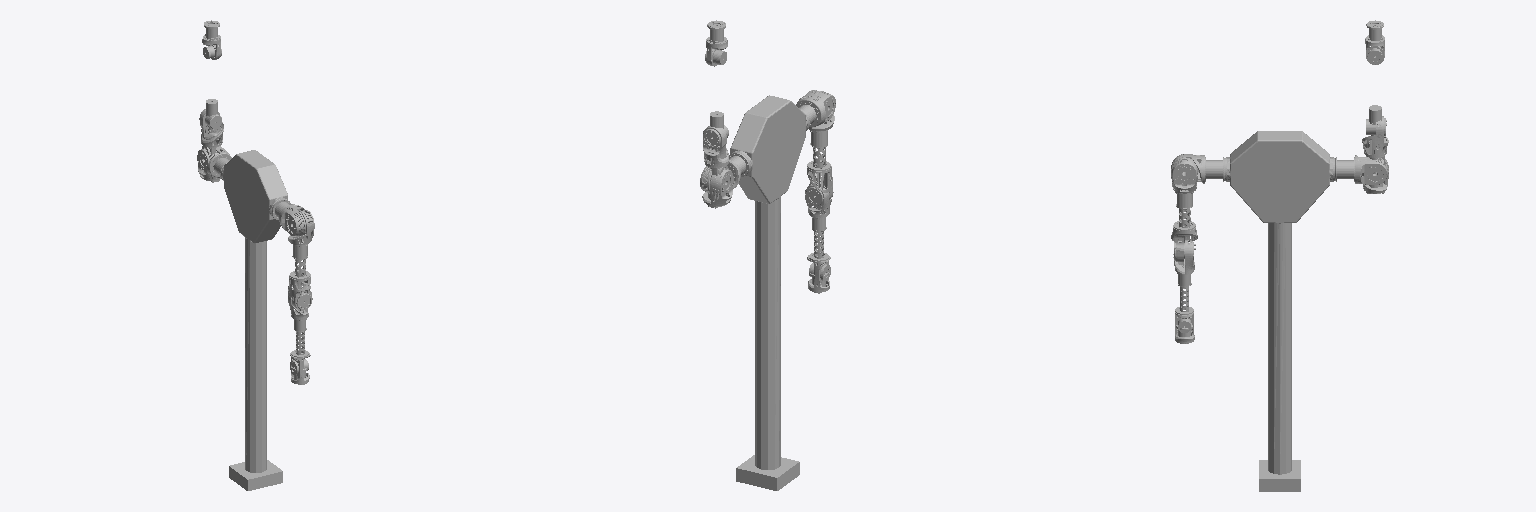
The robot description file, URDF, robot "HR-UP-7DOF-3KG-R-B01382-URDF-1029_CSV_LEFT_CANDIDATE_NOT_FOR_ROB":
<?xml version="1.0" encoding="utf-8"?>
<!--
  HR-UP-7DOF-3KG-R-B01382 修复版 (2026-10-30)
  双臂限位于2026-11-06按get_config内缩0.02rad与现场bridge对齐（左臂当日17:24先行，右臂18:1x补齐）。
  本包结构仿 SolidWorks 原始导出包 HR-UP-7DOF-3KG-R-B01382-URDF-1029。
  ROS2 包名: hr_up_7dof_fixed (原包名含 '-' 不符合 ROS 包名规范, 目录名保留原名风格)
  基于 SW 原始导出修正:
  1. mesh 路径改为 package://hr_up_7dof_fixed/meshes/ (自包含)
  2. 14 个关节限位从 0/0 修复为 ±2.967 rad (参考同类 7-DOF 臂)
     2b. 左臂 Joint1L~Joint7L 改用控制器 get_config 实测软限位并内缩 0.02rad
         (2026-11-06, 与 exton_bridge.py 的 LIVE_LIMITS_RAD 同值)；
         旧值 ±2.967 比真机宽, 会让 IK 目标越过 bridge 裁剪线而与真机失配。
         2c. 右臂 Joint1~Joint7 同日改用同表（控制器 get_config 18:10 原文：
             upper=[2.79,0.26,2.79,2.26,2.79,1.57,2.79]×2臂, lower=[-2.79,-2.3562,...]×2臂,
             双臂对称; 内缩 0.02rad 后即 LIVE_LIMITS_RAD），右臂不再特例。
  3. 新增 base_link 根节点 + 固定安装变换 rpy=(-pi/2,-pi/2,0), 抬高 1.244m:
     整体由装配倒伏姿态改为竖直站立 (背板底端落在 z=0 地面), 零位双臂自然下垂
  4. 左臂 Joint1L~Joint7L origin 按右臂严格镜像重写 (修复 SW 装配 frame 混乱;
     右臂 Joint1~7 与原文件逐字节一致, 运动学未动)
  5. 左臂 Link1L~6L visual/collision origin 加姿态补偿:
     Link1L/3L/4L 绕 z 翻 180°, Link2L/5L/6L 绕 x 翻 180°, Link7L 不补偿
  注意:
  - 左臂运动学定义已按镜像重写 (有意修正), 与厂商原始 URDF 左臂零位不同, 接实机需重新核对
  - 同目录下 csv 为原始 SW 导出数据表 (左臂 Joint Origin 列对应原始版, 不反映本修复)
  - launch/display.launch.py 为 ROS2 (Humble) 格式, 对应原包的 ROS1 display.launch
  启动: ros2 launch hr_up_7dof_fixed display.launch.py
-->

<!-- This URDF was automatically created by SolidWorks to URDF Exporter! Originally created by Stephen Brawner (brawner@gmail.com) 
     Commit Version: 1.6.0-4-g7f85cfe  Build Version: 1.6.7995.38578
     For more information, please see http://wiki.ros.org/sw_urdf_exporter -->
<robot
  name="HR-UP-7DOF-3KG-R-B01382-URDF-1029_CSV_LEFT_CANDIDATE_NOT_FOR_ROBOT">
  <!-- DIAGNOSTIC ONLY - CSV-derived left-arm candidate; NEVER deploy to a robot. -->
  <link
    name="base">
    <inertial>
      <origin
        xyz="-0.376387537826631 -2.62081733964732E-07 -5.55111512312578E-17"
        rpy="0 0 0" />
      <mass
        value="15.5223953670435" />
      <inertia
        ixx="0.0827074536468223"
        ixy="-1.34986564896919E-07"
        ixz="1.0704489838012E-08"
        iyy="3.14007278551179"
        iyz="1.60922064995619E-08"
        izz="3.0789407204689" />
    </inertial>
    <visual>
      <origin
        xyz="0 0 0"
        rpy="0 0 0" />
      <geometry>
        <mesh
          filename="package://hr_up_7dof_fixed/meshes/base.STL" />
      </geometry>
      <material
        name="">
        <color
          rgba="0.752941176470588 0.752941176470588 0.752941176470588 1" />
      </material>
    </visual>
    <collision>
      <origin
        xyz="0 0 0"
        rpy="0 0 0" />
      <geometry>
        <mesh
          filename="package://hr_up_7dof_fixed/meshes/base.STL" />
      </geometry>
    </collision>
  </link>
  <link
    name="Link1">
    <inertial>
      <origin
        xyz="-0.000591561365081261 0.00320427695188968 -0.0597144083302867"
        rpy="0 0 0" />
      <mass
        value="0.3678301641414" />
      <inertia
        ixx="0.000425320901492475"
        ixy="-7.43831250588063E-06"
        ixz="1.73516526916848E-06"
        iyy="0.000441015892976663"
        iyz="3.36458694906235E-05"
        izz="0.000368632561441053" />
    </inertial>
    <visual>
      <origin
        xyz="0 0 0"
        rpy="0 0 0" />
      <geometry>
        <mesh
          filename="package://hr_up_7dof_fixed/meshes/Link1.STL" />
      </geometry>
      <material
        name="">
        <color
          rgba="0.752941176470588 0.752941176470588 0.752941176470588 1" />
      </material>
    </visual>
    <collision>
      <origin
        xyz="0 0 0"
        rpy="0 0 0" />
      <geometry>
        <mesh
          filename="package://hr_up_7dof_fixed/meshes/Link1.STL" />
      </geometry>
    </collision>
  </link>
  <joint
    name="Joint1"
    type="revolute">
    <origin
      xyz="0 0 -0.194"
      rpy="0 0 -3.1416" />
    <parent
      link="base" />
    <child
      link="Link1" />
    <axis
      xyz="0 0 1" />
    <limit
      lower="-2.77"
      upper="2.77"
      effort="100"
      velocity="6.28" />
  </joint>
  <link
    name="Link2">
    <inertial>
      <origin
        xyz="0.0106774916647973 0.000181873071192117 -0.00314585862786001"
        rpy="0 0 0" />
      <mass
        value="0.359887026812365" />
      <inertia
        ixx="0.000364078688238279"
        ixy="-4.8947616519457E-06"
        ixz="-3.5627625592209E-05"
        iyy="0.000407149771176912"
        iyz="-5.2802785399217E-06"
        izz="0.000388015415520843" />
    </inertial>
    <visual>
      <origin
        xyz="0 0 0"
        rpy="0 0 0" />
      <geometry>
        <mesh
          filename="package://hr_up_7dof_fixed/meshes/Link2.STL" />
      </geometry>
      <material
        name="">
        <color
          rgba="0.752941176470588 0.752941176470588 0.752941176470588 1" />
      </material>
    </visual>
    <collision>
      <origin
        xyz="0 0 0"
        rpy="0 0 0" />
      <geometry>
        <mesh
          filename="package://hr_up_7dof_fixed/meshes/Link2.STL" />
      </geometry>
    </collision>
  </link>
  <joint
    name="Joint2"
    type="revolute">
    <origin
      xyz="0 0 -0.15"
      rpy="-1.5708 0 0" />
    <parent
      link="Link1" />
    <child
      link="Link2" />
    <axis
      xyz="0 0 1" />
    <limit
      lower="-2.3362"
      upper="0.24"
      effort="100"
      velocity="6.28" />
  </joint>
  <link
    name="Link3">
    <inertial>
      <origin
        xyz="-0.000794196663793553 0.00537395944616941 0.134802058258116"
        rpy="0 0 0" />
      <mass
        value="0.475618970663951" />
      <inertia
        ixx="0.000799740442003772"
        ixy="-1.33756853028561E-05"
        ixz="1.24883996932872E-05"
        iyy="0.000828828157757174"
        iyz="-8.93031147752984E-05"
        izz="0.000437142259604194" />
    </inertial>
    <visual>
      <origin
        xyz="0 0 0"
        rpy="0 0 0" />
      <geometry>
        <mesh
          filename="package://hr_up_7dof_fixed/meshes/Link3.STL" />
      </geometry>
      <material
        name="">
        <color
          rgba="0.752941176470588 0.752941176470588 0.752941176470588 1" />
      </material>
    </visual>
    <collision>
      <origin
        xyz="0 0 0"
        rpy="0 0 0" />
      <geometry>
        <mesh
          filename="package://hr_up_7dof_fixed/meshes/Link3.STL" />
      </geometry>
    </collision>
  </link>
  <joint
    name="Joint3"
    type="revolute">
    <origin
      xyz="0.078 0 0"
      rpy="0 1.5708 0" />
    <parent
      link="Link2" />
    <child
      link="Link3" />
    <axis
      xyz="0 0 1" />
    <limit
      lower="-2.77"
      upper="2.77"
      effort="100"
      velocity="6.28" />
  </joint>
  <link
    name="Link4">
    <inertial>
      <origin
        xyz="0.00975027962340019 0.000372530736054276 0.00176807760725375"
        rpy="0 0 0" />
      <mass
        value="0.242852964563248" />
      <inertia
        ixx="0.000174061578236843"
        ixy="-1.25255061120561E-06"
        ixz="1.89484096662568E-05"
        iyy="0.000202282981517127"
        iyz="4.0038167412235E-06"
        izz="0.000195723542295689" />
    </inertial>
    <visual>
      <origin
        xyz="0 0 0"
        rpy="0 0 0" />
      <geometry>
        <mesh
          filename="package://hr_up_7dof_fixed/meshes/Link4.STL" />
      </geometry>
      <material
        name="">
        <color
          rgba="0.752941176470588 0.752941176470588 0.752941176470588 1" />
      </material>
    </visual>
    <collision>
      <origin
        xyz="0 0 0"
        rpy="0 0 0" />
      <geometry>
        <mesh
          filename="package://hr_up_7dof_fixed/meshes/Link4.STL" />
      </geometry>
    </collision>
  </link>
  <joint
    name="Joint4"
    type="revolute">
    <origin
      xyz="0 0 0.247"
      rpy="1.5708 -1.5708 0" />
    <parent
      link="Link3" />
    <child
      link="Link4" />
    <axis
      xyz="0 0 1" />
    <limit
      lower="-0.67"
      upper="2.24"
      effort="100"
      velocity="6.28" />
  </joint>
  <link
    name="Link5">
    <inertial>
      <origin
        xyz="-0.00173646564193267 -0.000155248896045063 0.085325215516217"
        rpy="0 0 0" />
      <mass
        value="0.164930022113935" />
      <inertia
        ixx="0.000131461645150165"
        ixy="-3.15409086112128E-07"
        ixz="1.07948742726345E-05"
        iyy="0.00012690816108135"
        iyz="-3.22478075222191E-07"
        izz="7.70801421996649E-05" />
    </inertial>
    <visual>
      <origin
        xyz="0 0 0"
        rpy="0 0 0" />
      <geometry>
        <mesh
          filename="package://hr_up_7dof_fixed/meshes/Link5.STL" />
      </geometry>
      <material
        name="">
        <color
          rgba="0.752941176470588 0.752941176470588 0.752941176470588 1" />
      </material>
    </visual>
    <collision>
      <origin
        xyz="0 0 0"
        rpy="0 0 0" />
      <geometry>
        <mesh
          filename="package://hr_up_7dof_fixed/meshes/Link5.STL" />
      </geometry>
    </collision>
  </link>
  <joint
    name="Joint5"
    type="revolute">
    <origin
      xyz="0.0764 0 0"
      rpy="-1.5708 0 -1.5708" />
    <parent
      link="Link4" />
    <child
      link="Link5" />
    <axis
      xyz="0 0 1" />
    <limit
      lower="-2.77"
      upper="2.77"
      effort="100"
      velocity="6.28" />
  </joint>
  <link
    name="Link6">
    <inertial>
      <origin
        xyz="0.0104892045435304 -6.01581548683741E-07 -0.00249827064212885"
        rpy="0 0 0" />
      <mass
        value="0.144939847863476" />
      <inertia
        ixx="8.15130084253264E-05"
        ixy="8.96452380335651E-11"
        ixz="-9.52662365220613E-06"
        iyy="9.18496914142817E-05"
        iyz="-7.8124380683384E-09"
        izz="9.15415032724651E-05" />
    </inertial>
    <visual>
      <origin
        xyz="0 0 0"
        rpy="0 0 0" />
      <geometry>
        <mesh
          filename="package://hr_up_7dof_fixed/meshes/Link6.STL" />
      </geometry>
      <material
        name="">
        <color
          rgba="0.752941176470588 0.752941176470588 0.752941176470588 1" />
      </material>
    </visual>
    <collision>
      <origin
        xyz="0 0 0"
        rpy="0 0 0" />
      <geometry>
        <mesh
          filename="package://hr_up_7dof_fixed/meshes/Link6.STL" />
      </geometry>
    </collision>
  </link>
  <joint
    name="Joint6"
    type="revolute">
    <origin
      xyz="0 0 0.2136"
      rpy="3.1416 -1.5708 0" />
    <parent
      link="Link5" />
    <child
      link="Link6" />
    <axis
      xyz="0 0 1" />
    <limit
      lower="-1.55"
      upper="1.55"
      effort="100"
      velocity="6.28" />
  </joint>
  <link
    name="Link7">
    <inertial>
      <origin
        xyz="2.19232814873556E-05 -1.47941976487554E-14 -0.030661959391494"
        rpy="0 0 0" />
      <mass
        value="0.109001414834473" />
      <inertia
        ixx="4.14075002615855E-05"
        ixy="-6.38314363402727E-17"
        ixz="-1.50453859983565E-09"
        iyy="4.13169683262698E-05"
        iyz="1.05968065143206E-18"
        izz="3.74678725864852E-05" />
    </inertial>
    <visual>
      <origin
        xyz="0 0 0"
        rpy="0 0 0" />
      <geometry>
        <mesh
          filename="package://hr_up_7dof_fixed/meshes/Link7.STL" />
      </geometry>
      <material
        name="">
        <color
          rgba="0.752941176470588 0.752941176470588 0.752941176470588 1" />
      </material>
    </visual>
    <collision>
      <origin
        xyz="0 0 0"
        rpy="0 0 0" />
      <geometry>
        <mesh
          filename="package://hr_up_7dof_fixed/meshes/Link7.STL" />
      </geometry>
    </collision>
  </link>
  <joint
    name="Joint7"
    type="revolute">
    <origin
      xyz="0.0614 0 0"
      rpy="3.1416 -1.5708 0" />
    <parent
      link="Link6" />
    <child
      link="Link7" />
    <axis
      xyz="0 0 1" />
    <limit
      lower="-2.77"
      upper="2.77"
      effort="100"
      velocity="6.28" />
  </joint>
  <link
    name="Link1L">
    <inertial>
      <origin
        xyz="0.000591068125007005 -0.00320614565370185 0.0597092491486269"
        rpy="0 0 0" />
      <mass
        value="0.367808392323499" />
      <inertia
        ixx="0.000425416190274079"
        ixy="-7.47295603123382E-06"
        ixz="1.76208480664631E-06"
        iyy="0.000440933384413344"
        iyz="3.36490973531412E-05"
        izz="0.000368620190381941" />
    </inertial>
    <visual>
      <origin
        xyz="0 0 0"
        rpy="0.000000 0.000000 3.141593" />
      <geometry>
        <mesh
          filename="package://hr_up_7dof_fixed/meshes/Link1L.STL" />
      </geometry>
      <material
        name="">
        <color
          rgba="0.752941176470588 0.752941176470588 0.752941176470588 1" />
      </material>
    </visual>
    <collision>
      <origin
        xyz="0 0 0"
        rpy="0.000000 0.000000 3.141593" />
      <geometry>
        <mesh
          filename="package://hr_up_7dof_fixed/meshes/Link1L.STL" />
      </geometry>
    </collision>
  </link>
  <joint
    name="Joint1L"
    type="revolute">
    <origin
      xyz="0 0 0.194"
      rpy="0 0 0" />
    <parent
      link="base" />
    <child
      link="Link1L" />
    <axis
      xyz="0 0 1" />
    <limit
      lower="-2.77"
      upper="2.77"
      effort="100"
      velocity="6.28" />
  </joint>
  <link
    name="Link2L">
    <inertial>
      <origin
        xyz="0.0106916763035278 -0.000173514284543597 -0.00314337977356001"
        rpy="0 0 0" />
      <mass
        value="0.360190520660374" />
      <inertia
        ixx="0.000364591449298305"
        ixy="4.94144689154542E-06"
        ixz="-3.56591377652058E-05"
        iyy="0.000407564307943435"
        iyz="5.73694745583767E-06"
        izz="0.000388210543299227" />
    </inertial>
    <visual>
      <origin
        xyz="0 0 0"
        rpy="3.141593 0.000000 0.000000" />
      <geometry>
        <mesh
          filename="package://hr_up_7dof_fixed/meshes/Link2L.STL" />
      </geometry>
      <material
        name="">
        <color
          rgba="0.752941176470588 0.752941176470588 0.752941176470588 1" />
      </material>
    </visual>
    <collision>
      <origin
        xyz="0 0 0"
        rpy="3.141593 0.000000 0.000000" />
      <geometry>
        <mesh
          filename="package://hr_up_7dof_fixed/meshes/Link2L.STL" />
      </geometry>
    </collision>
  </link>
  <joint
    name="Joint2L"
    type="revolute">
    <origin
      xyz="0 0 0.15"
      rpy="-1.5708 0 -3.1416" />
    <parent
      link="Link1L" />
    <child
      link="Link2L" />
    <axis
      xyz="0 0 1" />
    <limit
      lower="-2.3362"
      upper="0.24"
      effort="100"
      velocity="6.28" />
  </joint>
  <link
    name="Link3L">
    <inertial>
      <origin
        xyz="0.000291402112978737 -0.00196958841242456 -0.0728636028996557"
        rpy="0 0 0" />
      <mass
        value="0.463736306643499" />
      <inertia
        ixx="0.000462341211893298"
        ixy="-4.75913095840478E-06"
        ixz="4.43462921065407E-06"
        iyy="0.000472657085301201"
        iyz="-3.18762134085855E-05"
        izz="0.000282811922628424" />
    </inertial>
    <visual>
      <origin
        xyz="0 0 0"
        rpy="0.000000 0.000000 3.141593" />
      <geometry>
        <mesh
          filename="package://hr_up_7dof_fixed/meshes/Link3L.STL" />
      </geometry>
      <material
        name="">
        <color
          rgba="0.752941176470588 0.752941176470588 0.752941176470588 1" />
      </material>
    </visual>
    <collision>
      <origin
        xyz="0 0 0"
        rpy="0.000000 0.000000 3.141593" />
      <geometry>
        <mesh
          filename="package://hr_up_7dof_fixed/meshes/Link3L.STL" />
      </geometry>
    </collision>
  </link>
  <joint
    name="Joint3L"
    type="revolute">
    <origin
      xyz="0.078 0 0"
      rpy="3.1416 -1.5708 0" />
    <parent
      link="Link2L" />
    <child
      link="Link3L" />
    <axis
      xyz="0 0 1" />
    <limit
      lower="-2.77"
      upper="2.77"
      effort="100"
      velocity="6.28" />
  </joint>
  <link
    name="Link4L">
    <inertial>
      <origin
        xyz="-0.0119883718049398 -0.000368727861447744 -0.00170902169505127"
        rpy="0 0 0" />
      <mass
        value="0.251287299257852" />
      <inertia
        ixx="0.000180409145644291"
        ixy="-1.25565370114981E-06"
        ixz="1.89477793444068E-05"
        iyy="0.000205668219800651"
        iyz="4.0048243373935E-06"
        izz="0.000198784367983275" />
    </inertial>
    <visual>
      <origin
        xyz="0 0 0"
        rpy="0.000000 0.000000 3.141593" />
      <geometry>
        <mesh
          filename="package://hr_up_7dof_fixed/meshes/Link4L.STL" />
      </geometry>
      <material
        name="">
        <color
          rgba="0.752941176470588 0.752941176470588 0.752941176470588 1" />
      </material>
    </visual>
    <collision>
      <origin
        xyz="0 0 0"
        rpy="0.000000 0.000000 3.141593" />
      <geometry>
        <mesh
          filename="package://hr_up_7dof_fixed/meshes/Link4L.STL" />
      </geometry>
    </collision>
  </link>
  <joint
    name="Joint4L"
    type="revolute">
    <origin
      xyz="0 0 -0.247"
      rpy="1.5708 -1.5708 0" />
    <parent
      link="Link3L" />
    <child
      link="Link4L" />
    <axis
      xyz="0 0 1" />
    <limit
      lower="-0.67"
      upper="2.24"
      effort="100"
      velocity="6.28" />
  </joint>
  <link
    name="Link5L">
    <inertial>
      <origin
        xyz="-0.00100467282479264 -4.79644483286634E-06 0.085510953152942"
        rpy="0 0 0" />
      <mass
        value="0.181003333976795" />
      <inertia
        ixx="0.000163213034772374"
        ixy="3.85976771242943E-09"
        ixz="1.20600878753708E-05"
        iyy="0.000158585869850887"
        iyz="1.37490765624317E-08"
        izz="8.03502776037416E-05" />
    </inertial>
    <visual>
      <origin
        xyz="0 0 0"
        rpy="3.141593 0.000000 0.000000" />
      <geometry>
        <mesh
          filename="package://hr_up_7dof_fixed/meshes/Link5L.STL" />
      </geometry>
      <material
        name="">
        <color
          rgba="0.752941176470588 0.752941176470588 0.752941176470588 1" />
      </material>
    </visual>
    <collision>
      <origin
        xyz="0 0 0"
        rpy="3.141593 0.000000 0.000000" />
      <geometry>
        <mesh
          filename="package://hr_up_7dof_fixed/meshes/Link5L.STL" />
      </geometry>
    </collision>
  </link>
  <joint
    name="Joint5L"
    type="revolute">
    <origin
      xyz="-0.0764 0 0"
      rpy="-1.5708 0 1.5708" />
    <parent
      link="Link4L" />
    <child
      link="Link5L" />
    <axis
      xyz="0 0 1" />
    <limit
      lower="-2.77"
      upper="2.77"
      effort="100"
      velocity="6.28" />
  </joint>
  <link
    name="Link6L">
    <inertial>
      <origin
        xyz="0.0104891683938672 -1.97967034498703E-06 -0.00250386103688268"
        rpy="0 0 0" />
      <mass
        value="0.144937188619048" />
      <inertia
        ixx="8.14957394470242E-05"
        ixy="-2.61420415198823E-09"
        ixz="-9.5320714728717E-06"
        iyy="9.18324710875711E-05"
        iyz="-5.19124219824279E-09"
        izz="9.15405048786224E-05" />
    </inertial>
    <visual>
      <origin
        xyz="0 0 0"
        rpy="3.141593 0.000000 0.000000" />
      <geometry>
        <mesh
          filename="package://hr_up_7dof_fixed/meshes/Link6L.STL" />
      </geometry>
      <material
        name="">
        <color
          rgba="0.752941176470588 0.752941176470588 0.752941176470588 1" />
      </material>
    </visual>
    <collision>
      <origin
        xyz="0 0 0"
        rpy="3.141593 0.000000 0.000000" />
      <geometry>
        <mesh
          filename="package://hr_up_7dof_fixed/meshes/Link6L.STL" />
      </geometry>
    </collision>
  </link>
  <joint
    name="Joint6L"
    type="revolute">
    <origin
      xyz="0 0 0.2136"
      rpy="3.1416 -1.5708 0" />
    <parent
      link="Link5L" />
    <child
      link="Link6L" />
    <axis
      xyz="0 0 1" />
    <limit
      lower="-1.55"
      upper="1.55"
      effort="100"
      velocity="6.28" />
  </joint>
  <link
    name="Link7L">
    <inertial>
      <origin
        xyz="-2.77477901810855E-18 2.19232814882009E-05 0.0306619593914942"
        rpy="0 0 0" />
      <mass
        value="0.109001414834473" />
      <inertia
        ixx="4.13169683262697E-05"
        ixy="2.06124633919894E-23"
        ixz="-2.18524227207288E-22"
        iyy="4.14075002615854E-05"
        iyz="1.50453859983735E-09"
        izz="3.7467872586485E-05" />
    </inertial>
    <visual>
      <origin
        xyz="0 0 0"
        rpy="0.000000 0.000000 0.000000" />
      <geometry>
        <mesh
          filename="package://hr_up_7dof_fixed/meshes/Link7L.STL" />
      </geometry>
      <material
        name="">
        <color
          rgba="0.752941176470588 0.752941176470588 0.752941176470588 1" />
      </material>
    </visual>
    <collision>
      <origin
        xyz="0 0 0"
        rpy="0.000000 0.000000 0.000000" />
      <geometry>
        <mesh
          filename="package://hr_up_7dof_fixed/meshes/Link7L.STL" />
      </geometry>
    </collision>
  </link>
  <joint
    name="Joint7L"
    type="revolute">
    <origin
      xyz="0.0614 0 0"
      rpy="0 1.5708 0" />
    <parent
      link="Link6L" />
    <child
      link="Link7L" />
    <axis
      xyz="0 0 1" />
    <limit
      lower="-2.77"
      upper="2.77"
      effort="100"
      velocity="6.28" />
  </joint>
  <link name="base_link" />
  <joint name="base_link_to_base" type="fixed">
    <origin
      xyz="0 0 1.244"
      rpy="-1.5708 -1.5708 0" />
    <parent
      link="base_link" />
    <child
      link="base" />
  </joint>
</robot>

--- What the picture shows (computed from the rendered views, not written in the file) ---
The picture shows the robot from 3 angles, left to right: view 1: azimuth 30°, elevation 25°; view 2: azimuth 150°, elevation 25°; view 3: azimuth 270°, elevation 25°; orthographic projection.
Robot: HR-UP-7DOF-3KG-R-B01382-URDF-1029_CSV_LEFT_CANDIDATE_NOT_FOR_ROB — 16 links, 15 joints (14 revolute, 1 fixed); root link base_link; default pose: every joint at zero.
Links seen in each view (by area): view 1: base, Link3, Link1, Link5, Link2; view 2: base, Link3, Link1, Link2L, Link5, Link4, Link3L, Link1L; view 3: base, Link3, Link1L, Link2, Link1, Link3L, Link5.
Boxes of the visible links, bbox=[...] form: base: bbox=[220, 150, 291, 490]; Link3: bbox=[288, 239, 312, 310]; Link1: bbox=[275, 202, 305, 235]; Link5: bbox=[290, 319, 310, 375]; Link2: bbox=[288, 210, 314, 246]; base: bbox=[729, 95, 809, 490]; Link3: bbox=[807, 124, 833, 199]; Link1: bbox=[796, 91, 835, 126]; Link2L: bbox=[702, 168, 733, 208]; Link5: bbox=[807, 212, 830, 281]; Link4: bbox=[805, 182, 831, 219]; Link3L: bbox=[703, 126, 728, 199]; Link1L: bbox=[700, 156, 745, 193]; base: bbox=[1223, 131, 1336, 491]; Link3: bbox=[1171, 186, 1197, 261]; Link1L: bbox=[1337, 155, 1388, 184]; Link2: bbox=[1171, 157, 1197, 193]; Link1: bbox=[1171, 154, 1222, 183]; Link3L: bbox=[1362, 118, 1388, 187]; Link5: bbox=[1175, 274, 1193, 329].
Bounding box of the posed robot: 0.1598 × 0.7879 × 1.82 m (x, y, z).
Meshes: 15 distinct files referenced, 15 mesh visuals loaded (15 binary STL).
